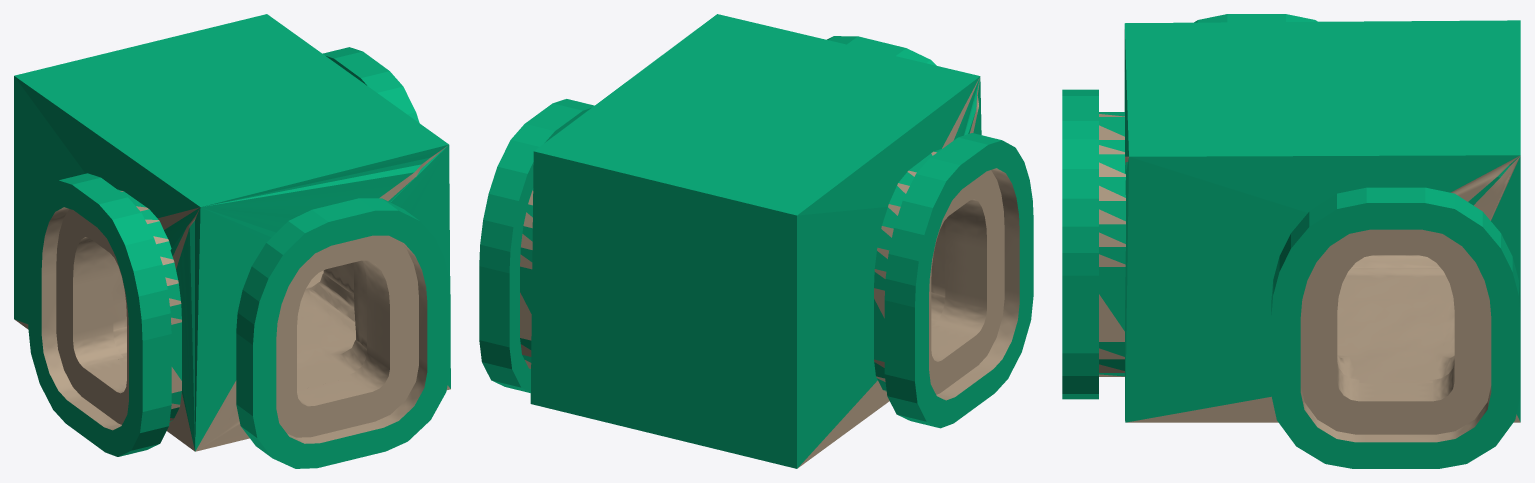
Rendered from TT_Junction.fbx.
3 views of the same model, side by side, from view 1: azimuth 30°, elevation 25°; view 2: azimuth 150°, elevation 25°; view 3: azimuth 270°, elevation 25° (orthographic). The views are drawn at different scales.
Visible parts, largest first — view 1: TT_Junction_LOD0; view 2: TT_Junction_LOD0; view 3: TT_Junction_LOD0.
Boxes of the visible parts, box(x1,y1,x2,y2) form: TT_Junction_LOD0: box(14, 14, 450, 468); TT_Junction_LOD0: box(479, 14, 1033, 468); TT_Junction_LOD0: box(1062, 14, 1520, 468).
Size of the model in its own units: 610 by 430 by 625.
